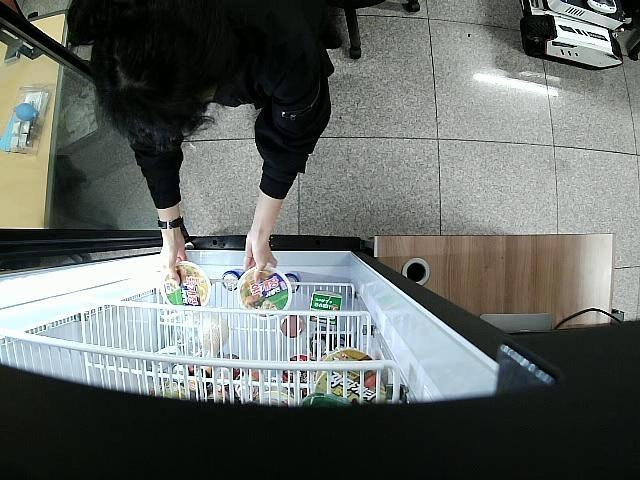09_yukGaeJang: (238, 264, 293, 319), (160, 260, 211, 308)
